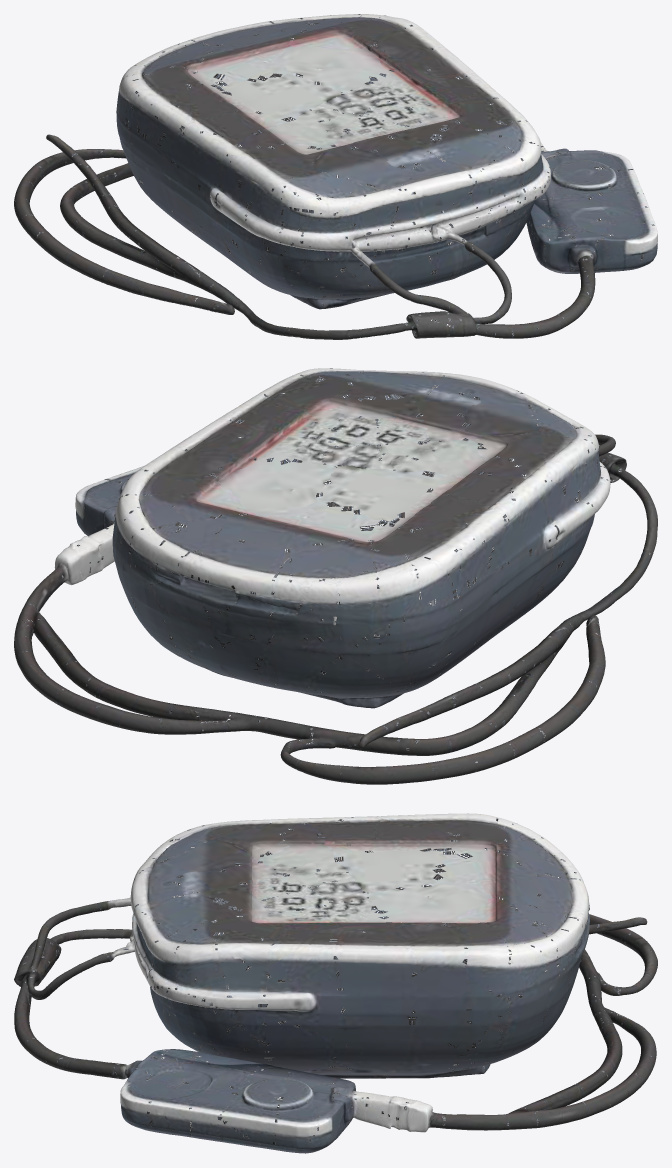
File: monitor.glb
The picture shows the model from 3 angles, top to bottom: view 1: azimuth 30°, elevation 25°; view 2: azimuth 150°, elevation 25°; view 3: azimuth 270°, elevation 25°; orthographic projection. The views are drawn at different scales.
Parts seen in each view (by area): view 1: Monitor; view 2: Monitor; view 3: Monitor.
Part boxes in pixels (x1=…): Monitor: x1=14, y1=14, x2=657, y2=339; Monitor: x1=14, y1=368, x2=657, y2=784; Monitor: x1=14, y1=813, x2=657, y2=1153.
Size of the model in its own units: 1.83 by 0.5339 by 2.
Materials: 1 (1 with a texture image).
